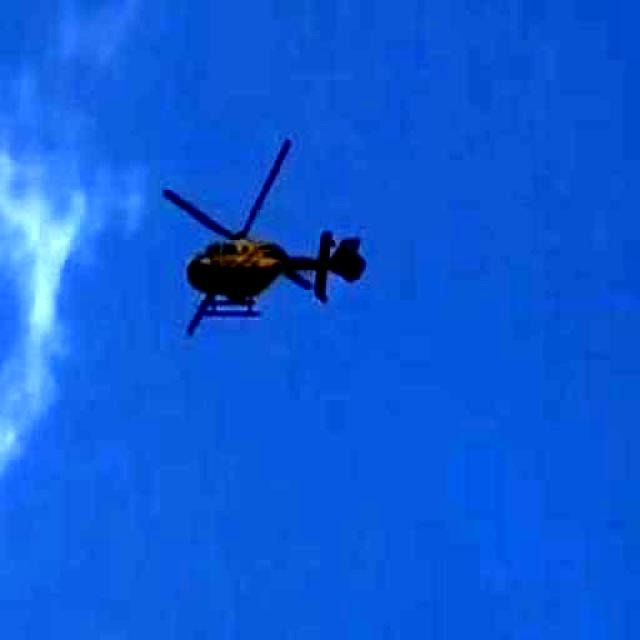drone: (115, 104, 402, 374)
